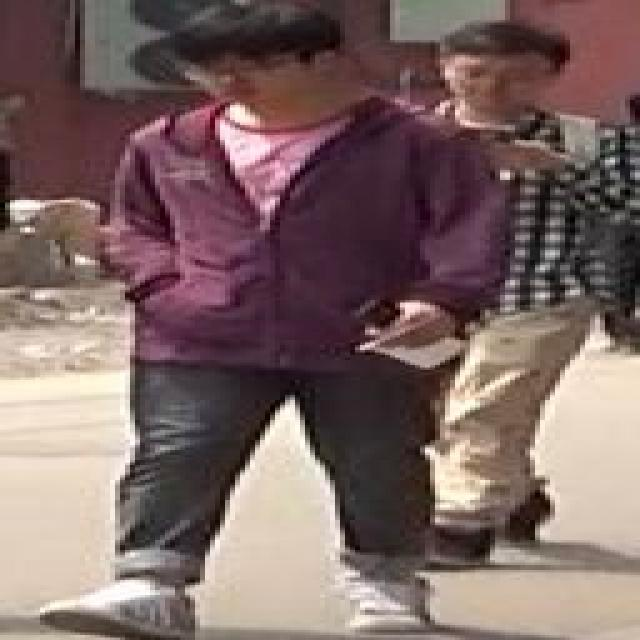adult: (30, 1, 499, 636), (374, 22, 615, 550)
